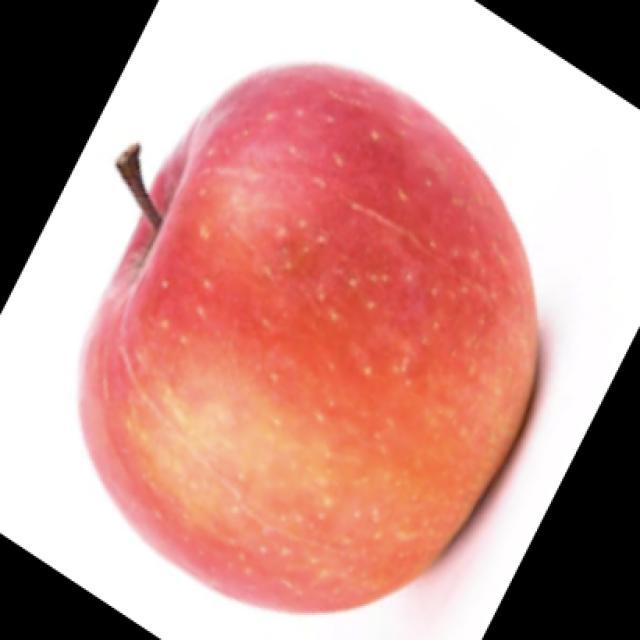Fresh Apple: (94, 87, 538, 603)
